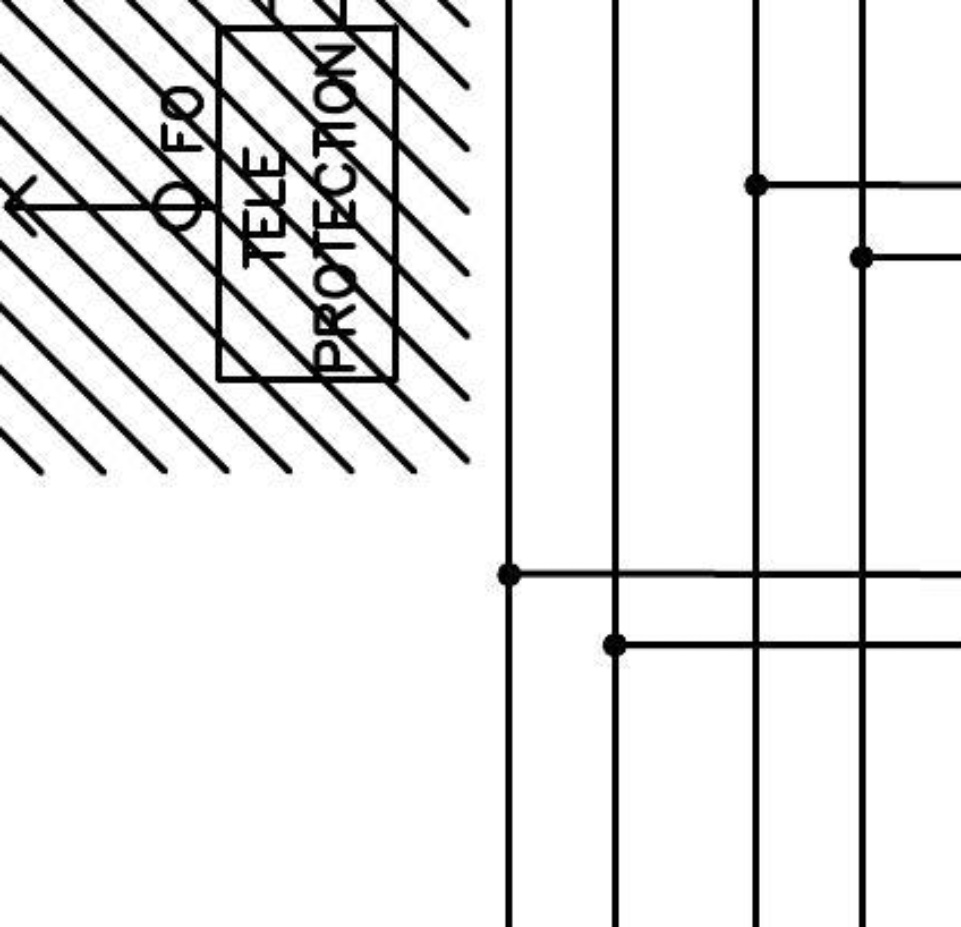tele_protection: (211, 19, 407, 390)
